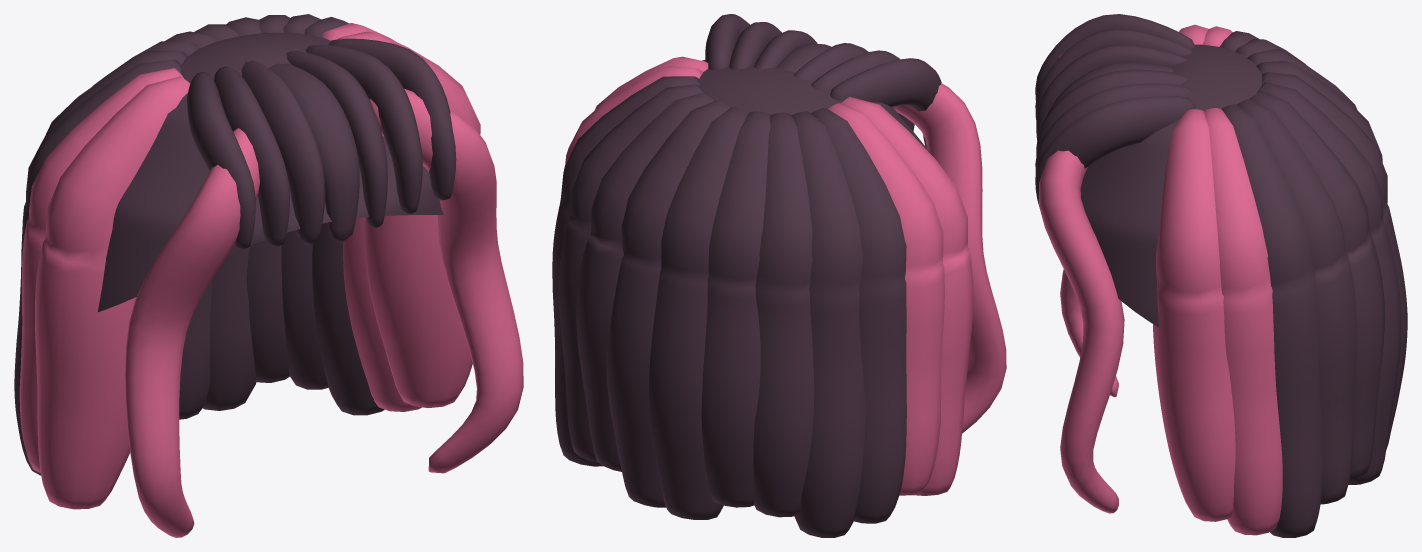
File: studio_bob_long.glb
3 renders of one model, left to right at view 1: azimuth 30°, elevation 25°; view 2: azimuth 150°, elevation 25°; view 3: azimuth 270°, elevation 25°, orthographic. The views are drawn at different scales.
Visible parts, largest first — view 1: bob; view 2: bob; view 3: bob.
Part boxes in pixels (x1,y1,x2,y2): bob: (14,14,523,537); bob: (552,14,1006,537); bob: (1035,14,1407,537).
Size of the model in its own units: 0.5631 by 0.5442 by 0.4498.
